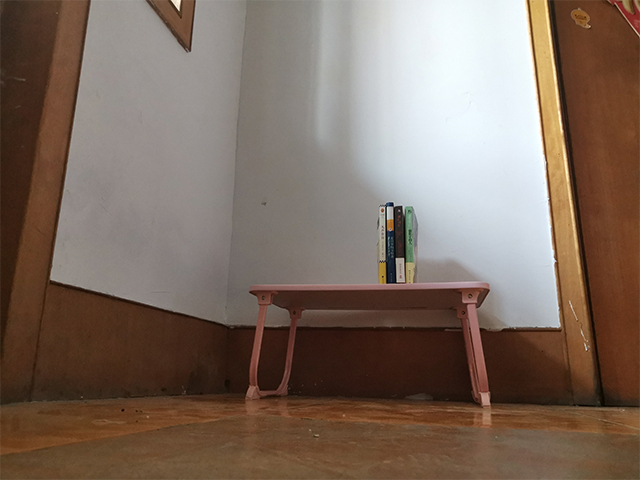stool: (241, 278, 497, 409)
